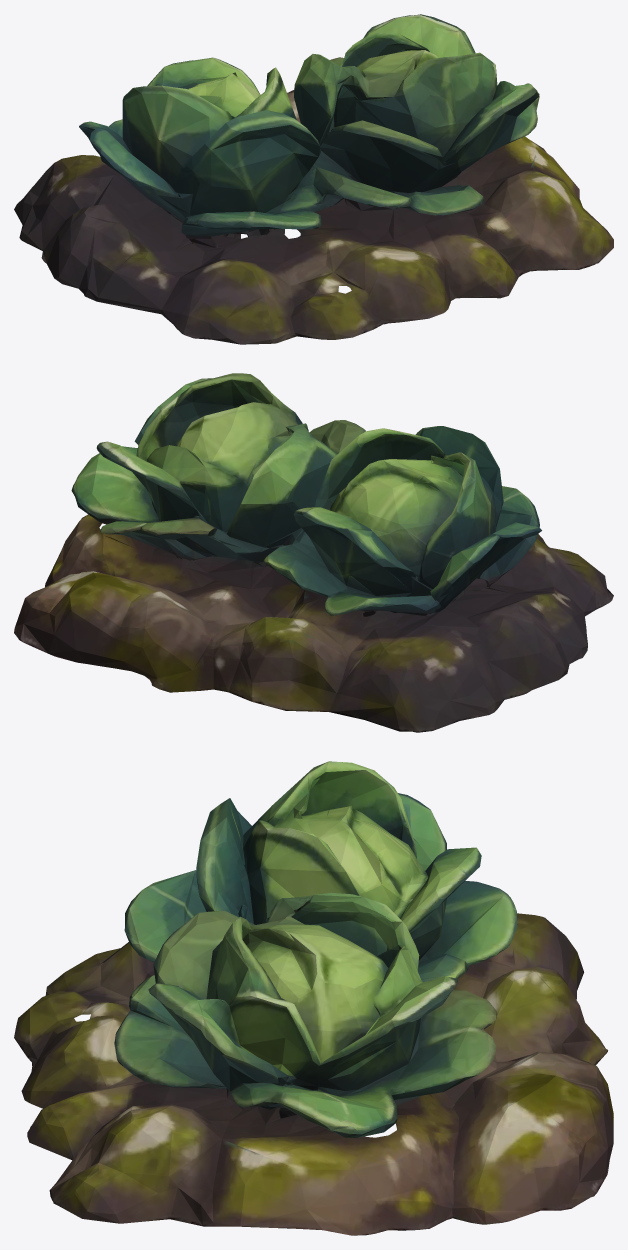
The model's file is cabbage.glb.
3 views of the same model, one above another, from view 1: azimuth 30°, elevation 25°; view 2: azimuth 150°, elevation 25°; view 3: azimuth 270°, elevation 25° (orthographic). The views are drawn at different scales.
Parts seen in each view (by area): view 1: world; view 2: world; view 3: world.
Boxes of the visible parts, box(x1,y1,x2,y2) form: world: box(14, 14, 613, 344); world: box(14, 373, 613, 732); world: box(14, 761, 613, 1235).
Bounding box in the file's own units: 0.996 × 0.3655 × 0.8235.
Materials: 1 (1 with a texture image).
